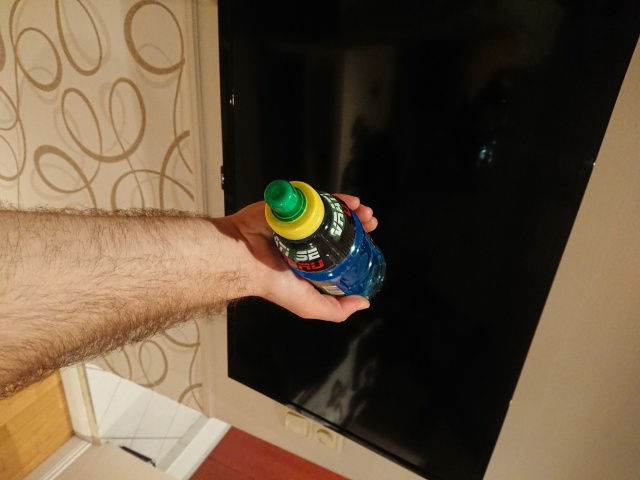Vindi Iso Sport Forest Strawberries 500mL: (261, 176, 388, 307)
